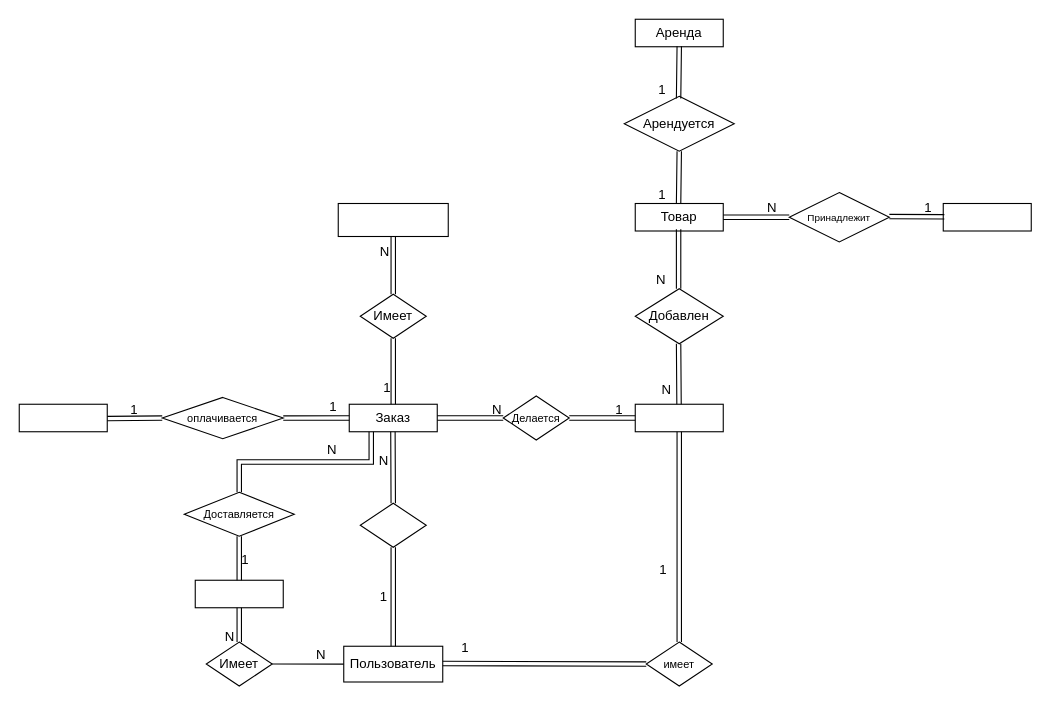
This 1051x706 diagram has some shape labels left out. The shapes that lost their labels are listed below. From the top down, each one's box as (x1, y1, x2, y2) in pixels, then its label:
(337, 202, 448, 237): Отслеживание
(942, 202, 1031, 231): Категоирии
(18, 403, 107, 432): Платёж
(634, 403, 723, 432): Корзина
(359, 502, 426, 547): Делает
(194, 579, 283, 608): Адрес
